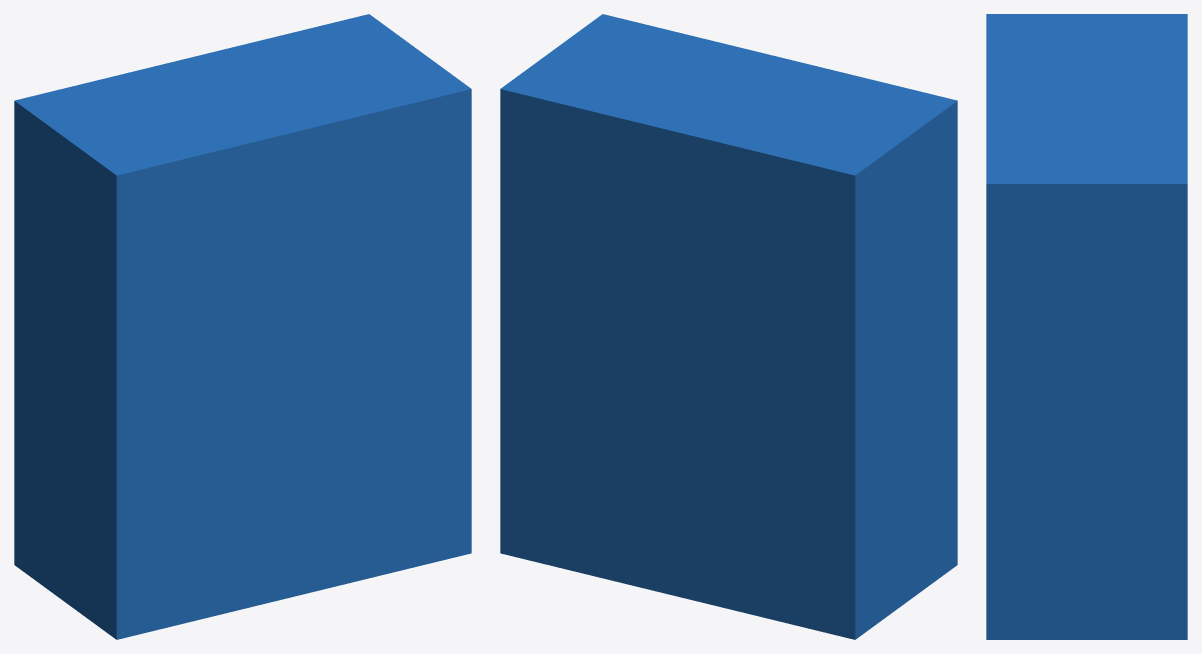
Rendered from synthetic_unskinned.glb.
3 renders of one model, left to right at view 1: azimuth 30°, elevation 25°; view 2: azimuth 150°, elevation 25°; view 3: azimuth 270°, elevation 25°, orthographic.
Parts seen in each view (by area): view 1: fixture_body; view 2: fixture_body; view 3: fixture_body.
Boxes of the visible parts, x1,y1,x2,y2 form: fixture_body: [14, 14, 471, 639]; fixture_body: [500, 14, 957, 639]; fixture_body: [986, 14, 1187, 639].
Bounding box in the file's own units: 0.8 × 1 × 0.4.
1 material, 1 textured.
